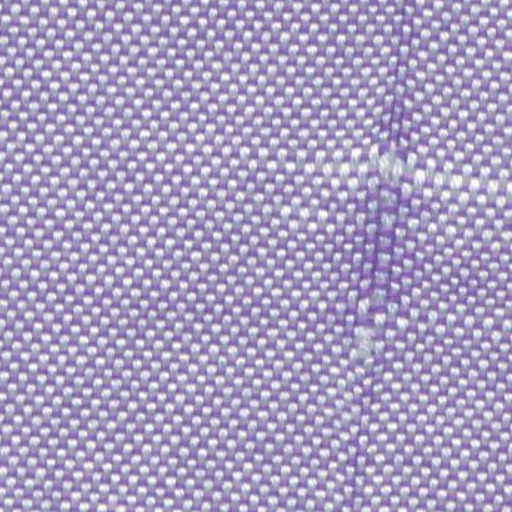DaiSha: (324, 85, 448, 385)
